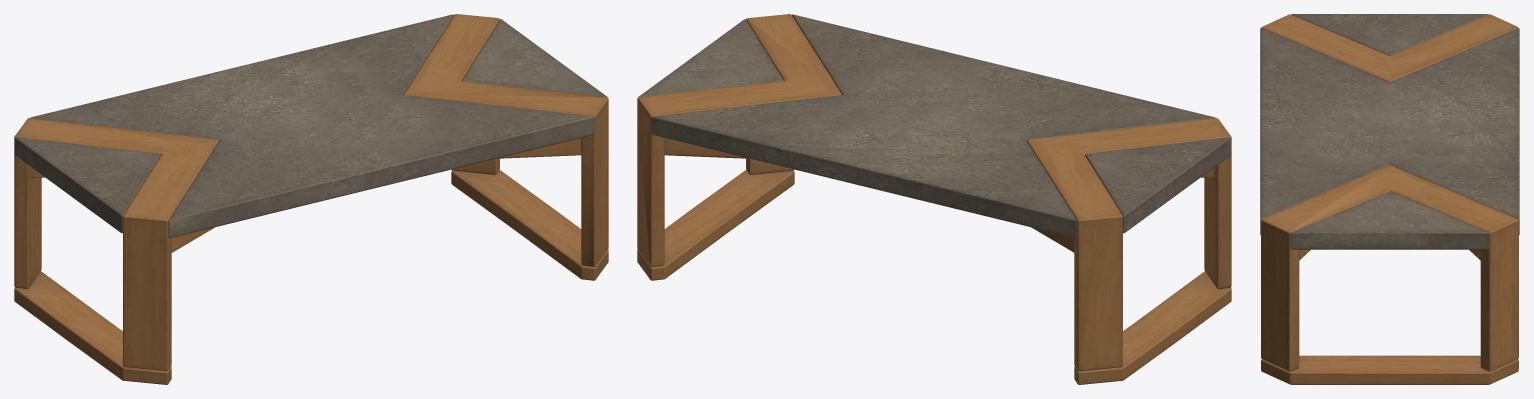
3 views of the same model, side by side, from view 1: azimuth 30°, elevation 25°; view 2: azimuth 150°, elevation 25°; view 3: azimuth 270°, elevation 25° (orthographic). The views are drawn at different scales.
Parts seen in each view (by area): view 1: modern_coffee_table_01; view 2: modern_coffee_table_01; view 3: modern_coffee_table_01.
Boxes of the visible parts, x1=… form: modern_coffee_table_01: x1=14, y1=14, x2=608, y2=384; modern_coffee_table_01: x1=637, y1=14, x2=1231, y2=384; modern_coffee_table_01: x1=1260, y1=14, x2=1519, y2=384.
Bounding box in the file's own units: 1.2 × 0.39 × 0.6.
1 material, 1 textured.
